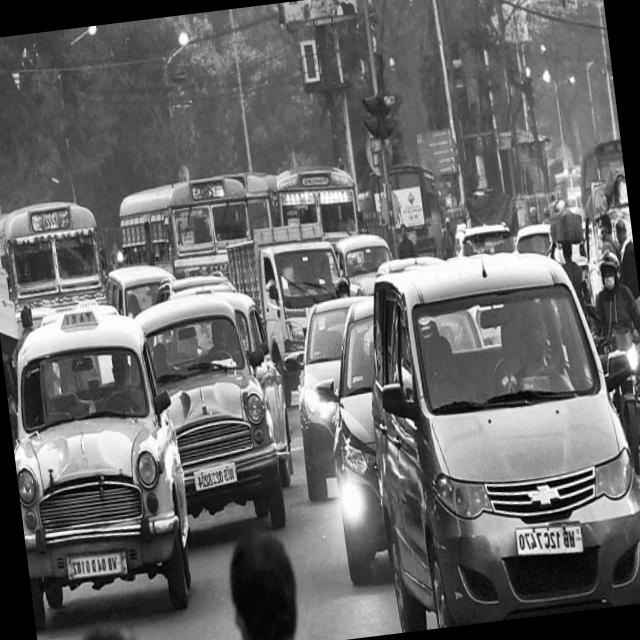bike: (605, 345, 640, 473)
bus: (0, 200, 103, 337), (119, 176, 248, 275), (277, 165, 359, 242)
car: (371, 253, 640, 630), (13, 309, 189, 630), (137, 294, 285, 527), (226, 222, 339, 364), (333, 298, 386, 584), (216, 291, 293, 486), (298, 298, 349, 501), (107, 264, 172, 317), (335, 233, 390, 294)
person: (596, 251, 640, 348)
